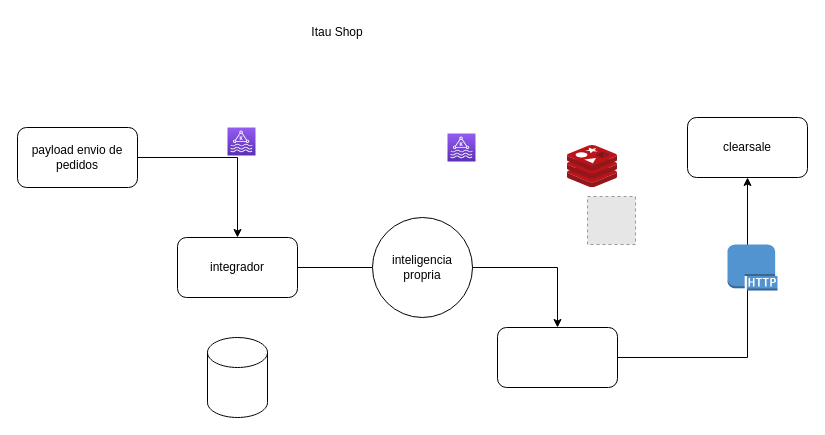
The diagram is 825 pixels wide and 435 high, and some of its shapes have lost their labels. Grey dashed boxes stand in for pictures. The centre of each missing label's shape, as x and y in pixels:
"adapter" goes at point 557,357.
"MongoDB" goes at point 237,377.
